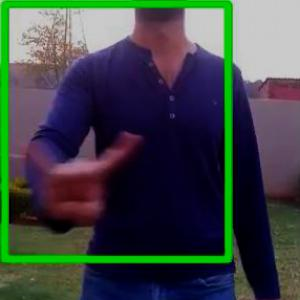takeoff-hand: (7, 118, 140, 226)
